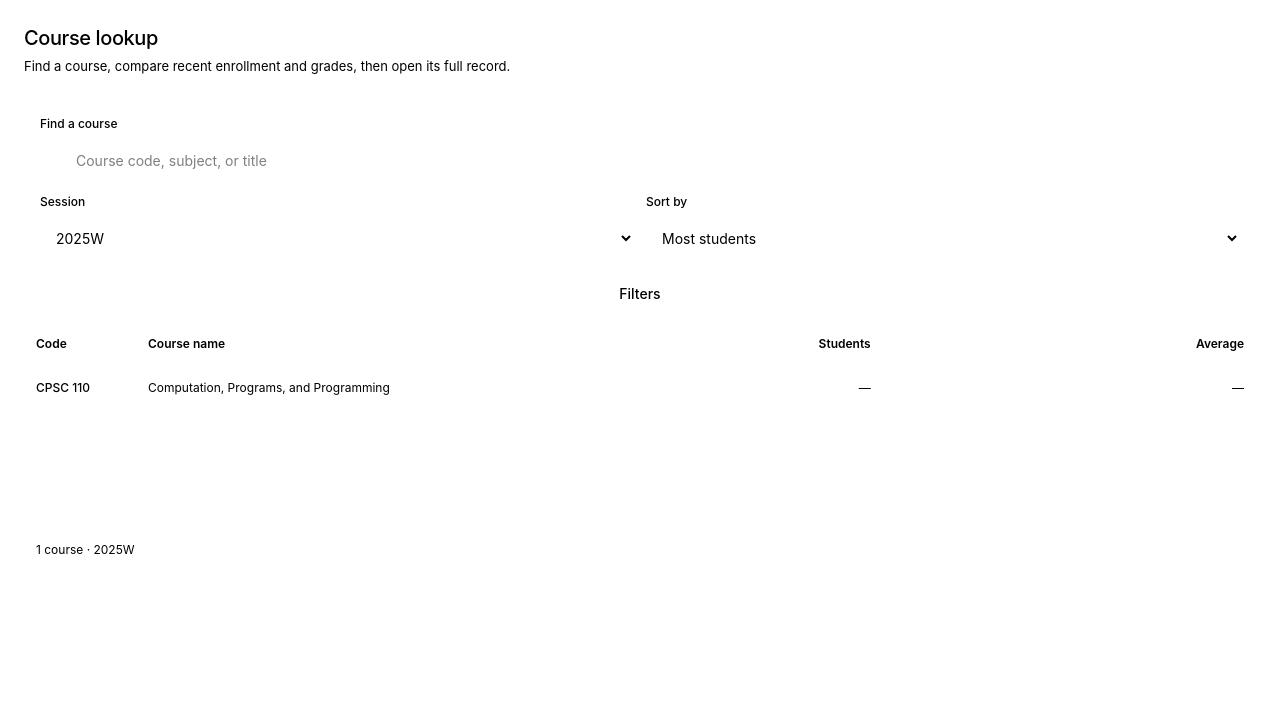
Test: course-lookup-pane — tools-mode list/detail split › tools mode does not fall back after a failed data search
Expected: the button "CPSC 110" is shown, [30,366,96,410]
Step 1. Type "data" into the field labelled "Find a course" → (640, 160), box [40,138,1240,182]
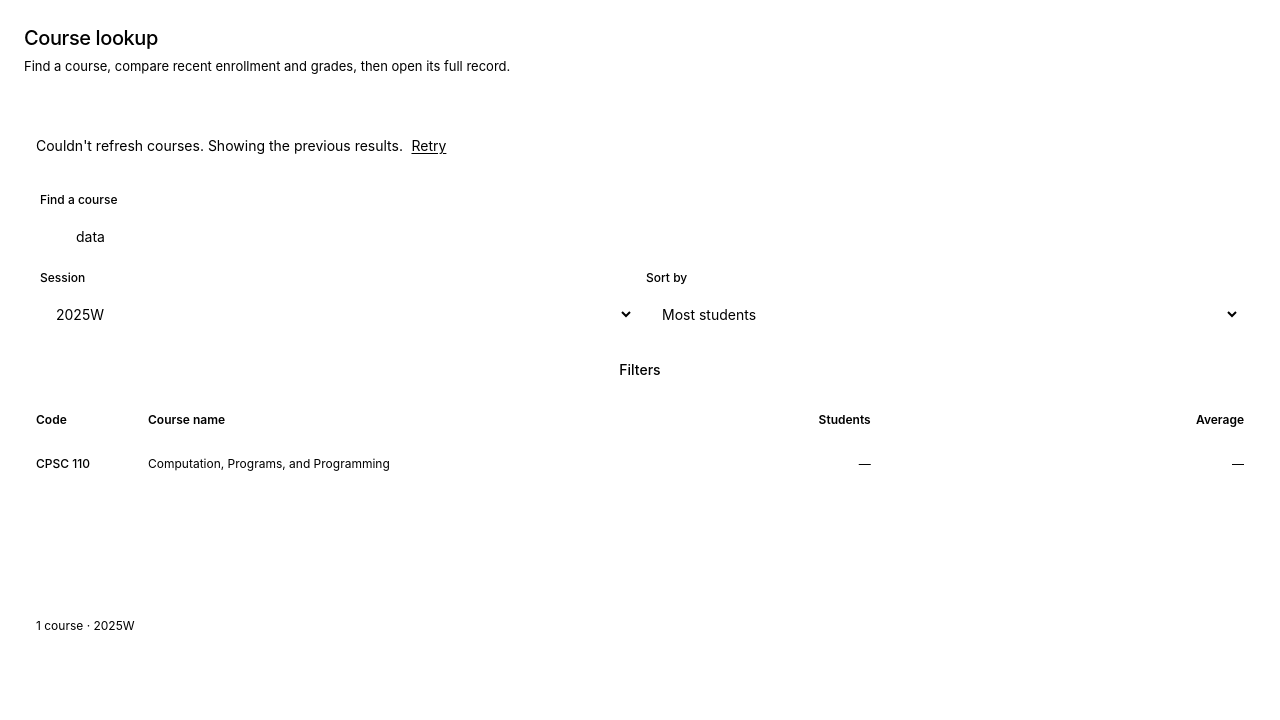
Expected: the button "CPSC 110" is shown, [30,442,96,486]
Expected: the text "Couldn't refresh courses. Showing the previous results. Retry" is shown, [36,124,451,168]
